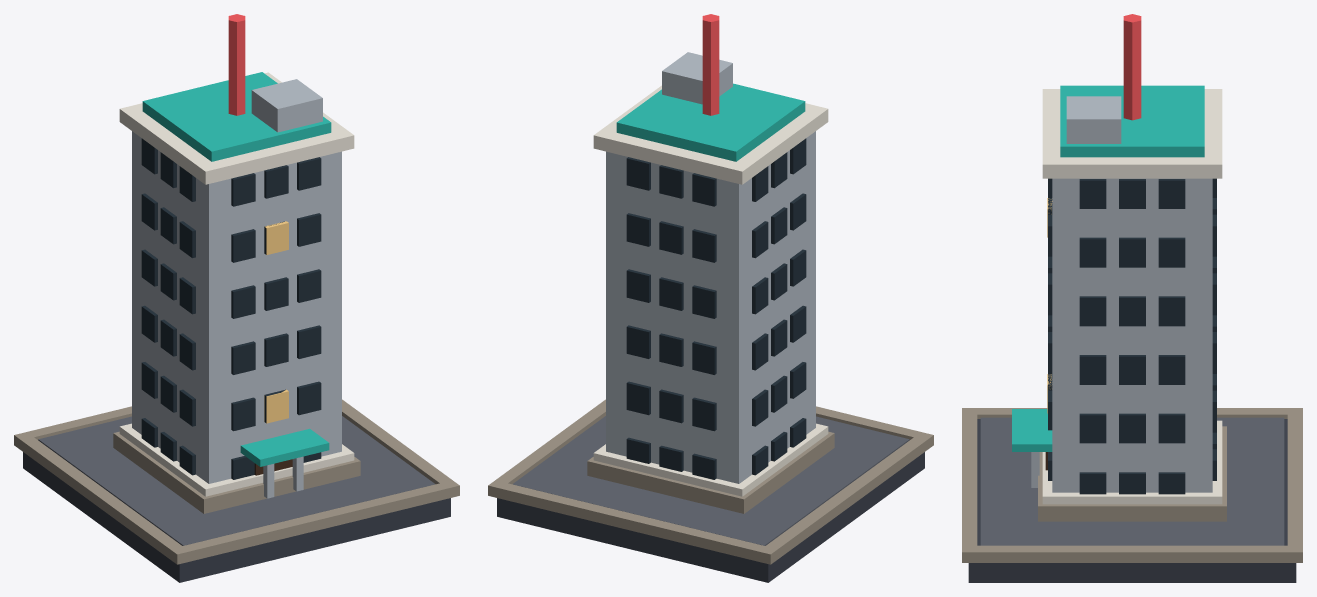
The model's file is city.skyscraper.glb.
The picture shows the model from 3 angles, left to right: view 1: azimuth 30°, elevation 25°; view 2: azimuth 150°, elevation 25°; view 3: azimuth 270°, elevation 25°; orthographic projection. The views are drawn at different scales.
Visible parts, largest first — view 1: city.skyscraper; view 2: city.skyscraper; view 3: city.skyscraper.
Part boxes in pixels (<box>): city.skyscraper: <box>14,14,459,582</box>; city.skyscraper: <box>488,14,933,582</box>; city.skyscraper: <box>962,14,1302,582</box>.
Size of the model in its own units: 2.02 by 3.24 by 2.02.
